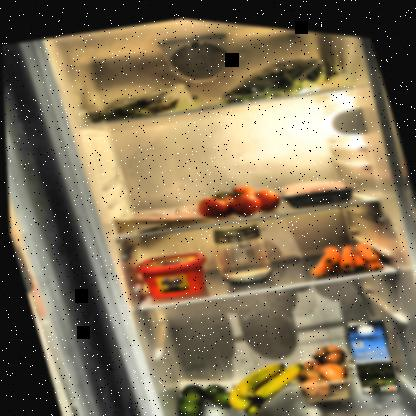banana: (216, 346, 314, 415)
butter: (129, 240, 215, 306)
carrot: (301, 222, 387, 280)
green_beans: (74, 67, 208, 135)
ground_beef: (272, 159, 362, 212)
lime: (164, 367, 243, 415)
milk: (340, 304, 403, 394)
onion: (282, 332, 356, 404)
spinach: (205, 37, 336, 114)
tomato: (189, 167, 284, 225)
